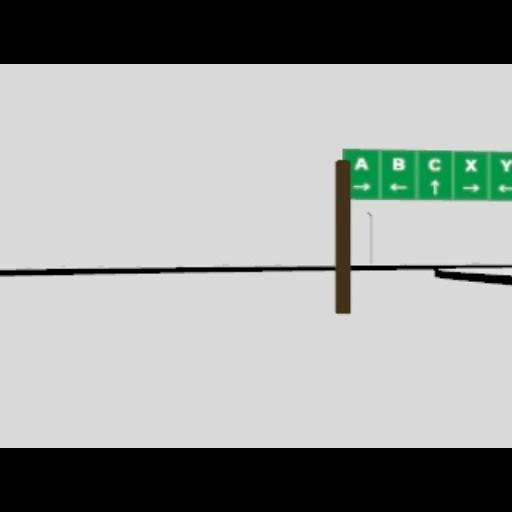A: (354, 156, 368, 170)
B: (391, 156, 405, 170)
C: (427, 157, 441, 171)
Left: (388, 182, 408, 190), (496, 184, 510, 192)
Right: (460, 184, 480, 192), (352, 182, 370, 190)
Straight: (429, 179, 439, 195)
X: (464, 158, 476, 172)
Y: (500, 158, 510, 172)
